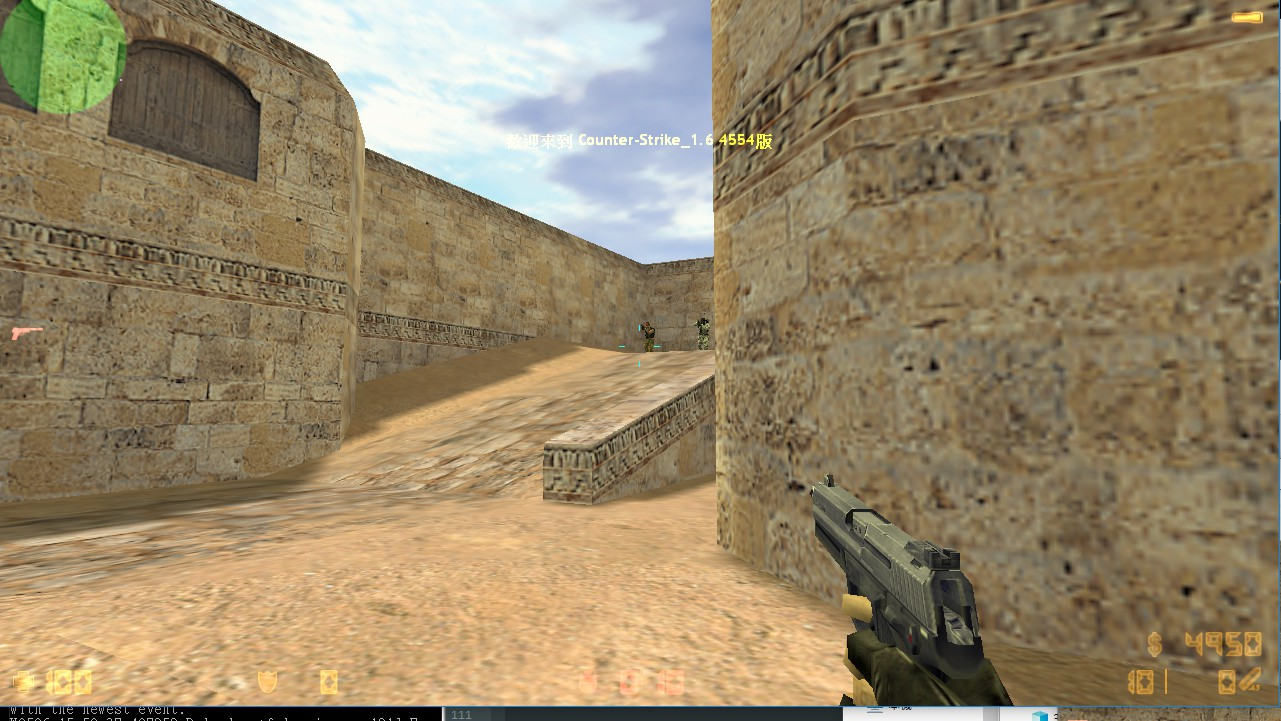person: (693, 317, 713, 351), (638, 319, 656, 352)
